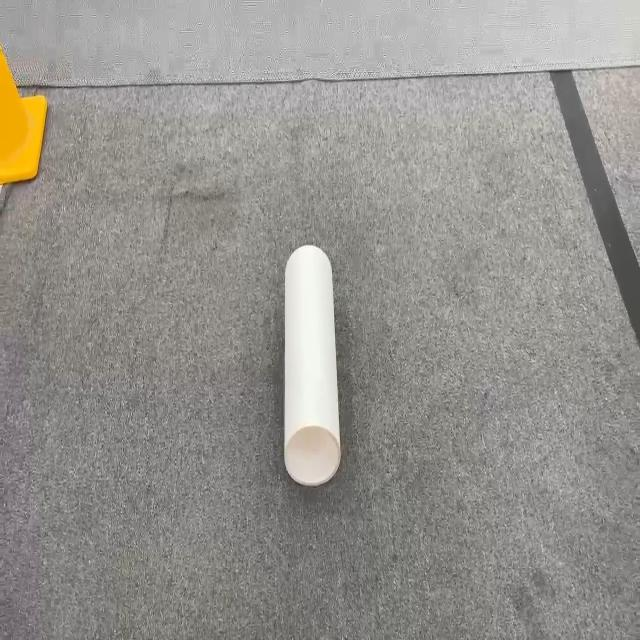coral: (282, 243, 342, 486)
